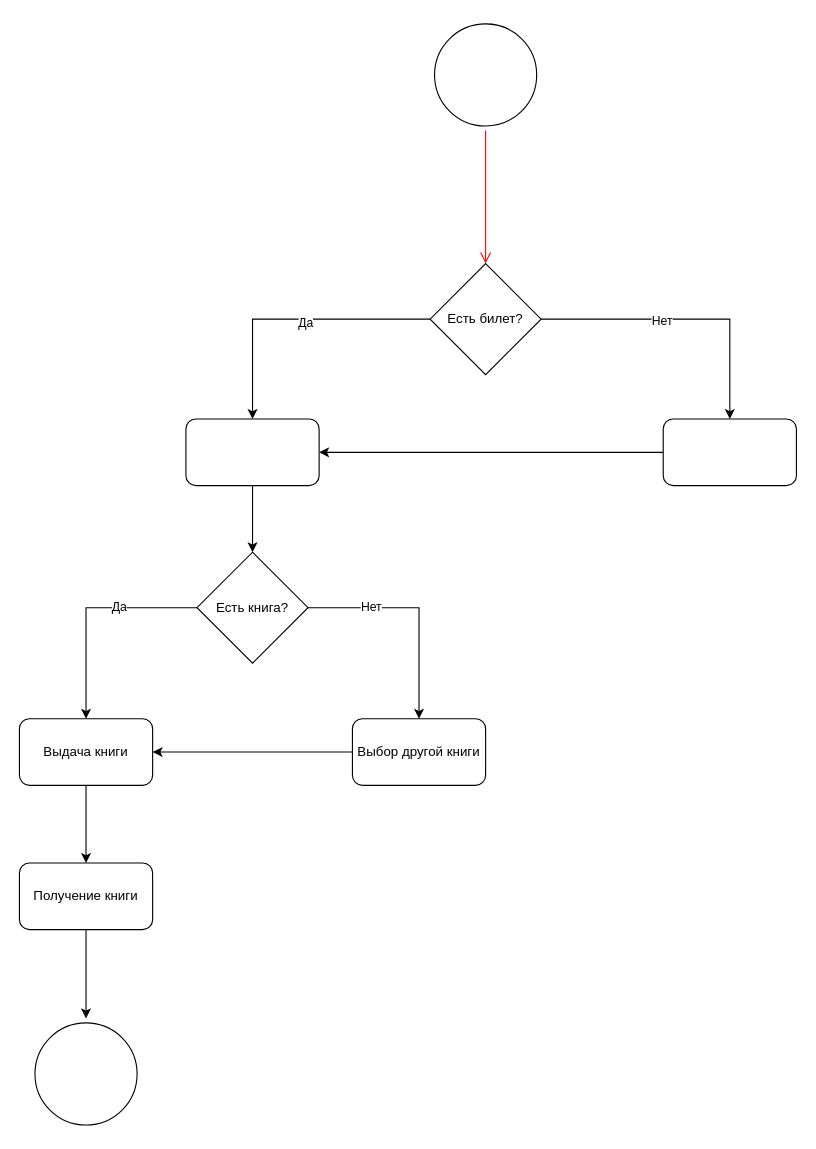
This 816x1149 diagram has some shape labels left out. The shapes that lost their labels are listed below. From the top down, each one's box as (x1, y1, x2, y2) in pixels, then its label:
(185, 418, 319, 486): Выбор книги
(662, 418, 796, 486): Оформить
